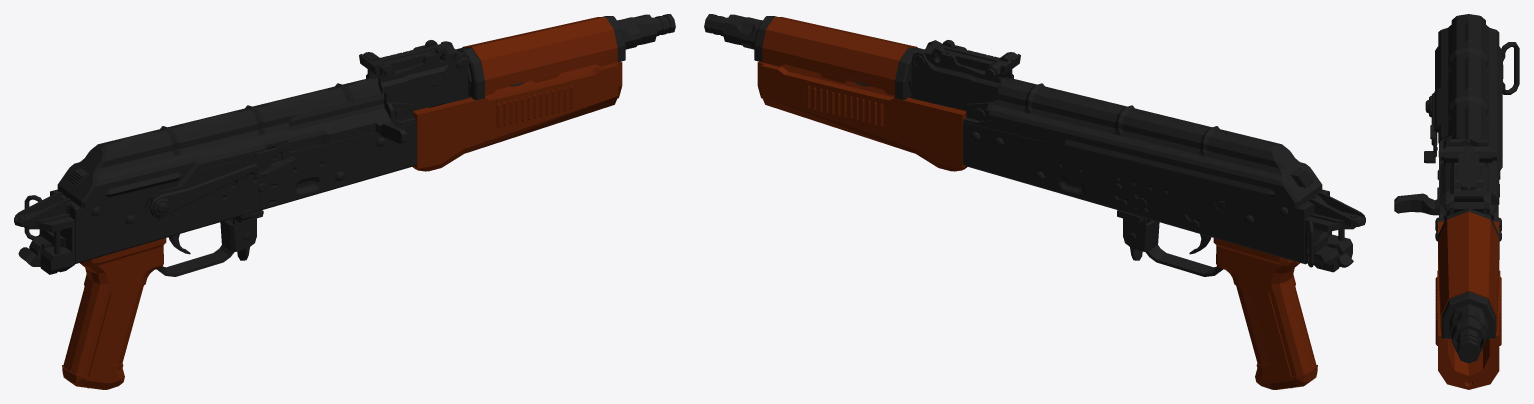
Rendered from mpi-km-k.glb.
The picture shows the model from 3 angles, left to right: view 1: azimuth 30°, elevation 25°; view 2: azimuth 150°, elevation 25°; view 3: azimuth 270°, elevation 25°; orthographic projection. The views are drawn at different scales.
Parts seen in each view (by area): view 1: mpikmk receiver_15, mpikmk handguard_4, mpikmk dust cover_5, mpikmk grip_2, mpikmk bolt_6, mpikmk selector_1; view 2: mpikmk receiver_15, mpikmk dust cover_5, mpikmk handguard_4, mpikmk grip_2; view 3: mpikmk dust cover_5, mpikmk handguard_4, mpikmk receiver_15, mpikmk bolt_6, mpikmk selector_1.
Part boxes in pixels (x1=…): mpikmk receiver_15: x1=14, y1=14, x2=657, y2=276; mpikmk handguard_4: x1=412, y1=17, x2=622, y2=171; mpikmk dust cover_5: x1=57, y1=77, x2=380, y2=207; mpikmk grip_2: x1=62, y1=238, x2=166, y2=389; mpikmk bolt_6: x1=266, y1=14, x2=675, y2=151; mpikmk selector_1: x1=144, y1=143, x2=295, y2=220; mpikmk receiver_15: x1=722, y1=14, x2=1365, y2=276; mpikmk dust cover_5: x1=988, y1=77, x2=1322, y2=207; mpikmk handguard_4: x1=757, y1=17, x2=967, y2=171; mpikmk grip_2: x1=1213, y1=238, x2=1317, y2=389; mpikmk dust cover_5: x1=1434, y1=14, x2=1502, y2=204; mpikmk handguard_4: x1=1435, y1=211, x2=1501, y2=389; mpikmk receiver_15: x1=1435, y1=42, x2=1519, y2=352; mpikmk bolt_6: x1=1394, y1=135, x2=1480, y2=363; mpikmk selector_1: x1=1424, y1=93, x2=1437, y2=163.
Bounding box in the file's own units: 4.98 × 1.91 × 0.7108.
